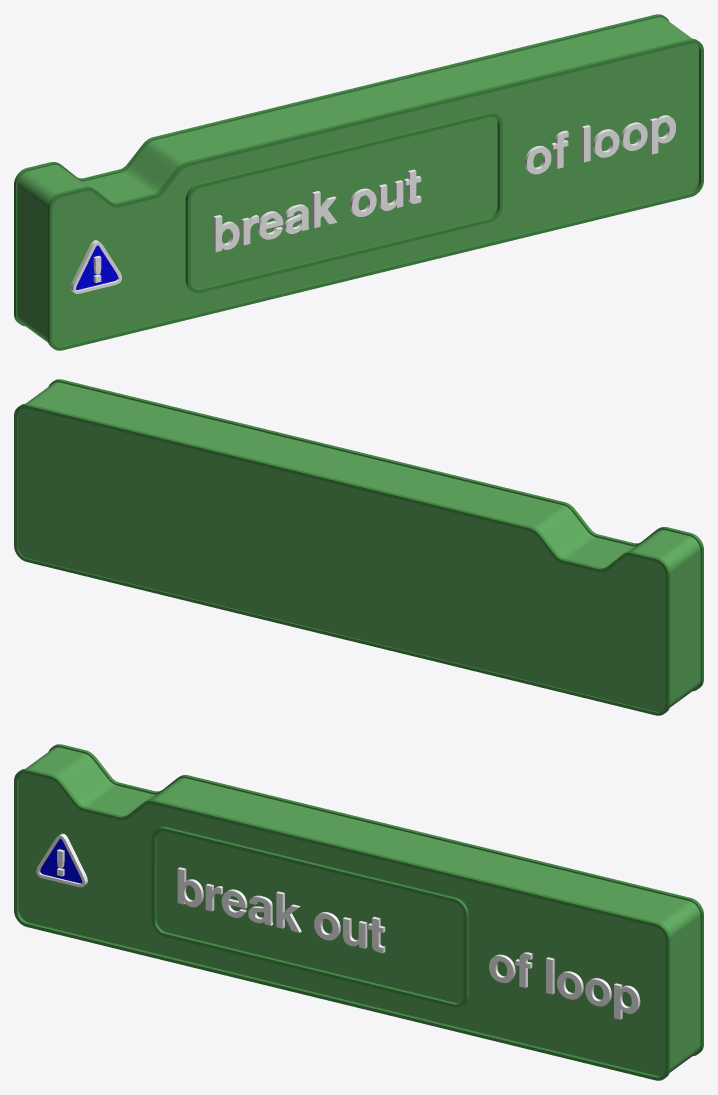
The model's file is controls_flow_statements.gltf.
3 renders of one model, top to bottom at view 1: azimuth 30°, elevation 25°; view 2: azimuth 150°, elevation 25°; view 3: azimuth 330°, elevation 25°, orthographic.
Parts seen in each view (by area): view 1: Extrude.17, Extrude.18, Extrude.2, Extrude.9, Extrude.19, Extrude.1, Extrude.21, Extrude.3, Extrude.14, Extrude.15, Extrude.12, Extrude.16 (+1 smaller); view 2: Extrude.17, Extrude.9, Extrude.18; view 3: Extrude.17, Extrude.18, Extrude.2, Extrude.9, Extrude.19, Extrude.1, Extrude.21, Extrude.3, Extrude.14, Extrude.15, Extrude.16, Extrude.12.
Part boxes in pixels (bbox=[...]): Extrude.17: bbox=[17, 17, 698, 346]; Extrude.18: bbox=[47, 38, 703, 350]; Extrude.2: bbox=[185, 112, 502, 293]; Extrude.9: bbox=[14, 14, 669, 325]; Extrude.19: bbox=[76, 245, 117, 289]; Extrude.1: bbox=[70, 240, 121, 293]; Extrude.21: bbox=[213, 215, 239, 252]; Extrude.3: bbox=[650, 115, 675, 154]; Extrude.14: bbox=[312, 191, 337, 228]; Extrude.15: bbox=[284, 204, 308, 233]; Extrude.12: bbox=[378, 180, 403, 210]; Extrude.16: bbox=[257, 211, 283, 239]; Extrude.17: bbox=[17, 382, 700, 711]; Extrude.9: bbox=[14, 403, 670, 715]; Extrude.18: bbox=[48, 379, 703, 690]; Extrude.17: bbox=[19, 747, 700, 1076]; Extrude.18: bbox=[14, 768, 670, 1080]; Extrude.2: bbox=[151, 826, 468, 1007]; Extrude.9: bbox=[48, 744, 703, 1055]; Extrude.19: bbox=[40, 838, 82, 883]; Extrude.1: bbox=[36, 833, 87, 887]; Extrude.21: bbox=[177, 867, 203, 907]; Extrude.3: bbox=[614, 983, 640, 1019]; Extrude.14: bbox=[276, 891, 301, 932]; Extrude.15: bbox=[248, 895, 273, 925]; Extrude.16: bbox=[221, 889, 247, 917]; Extrude.12: bbox=[343, 917, 367, 948].
Size of the model in its own units: 0.9216 by 0.2105 by 0.0906.
